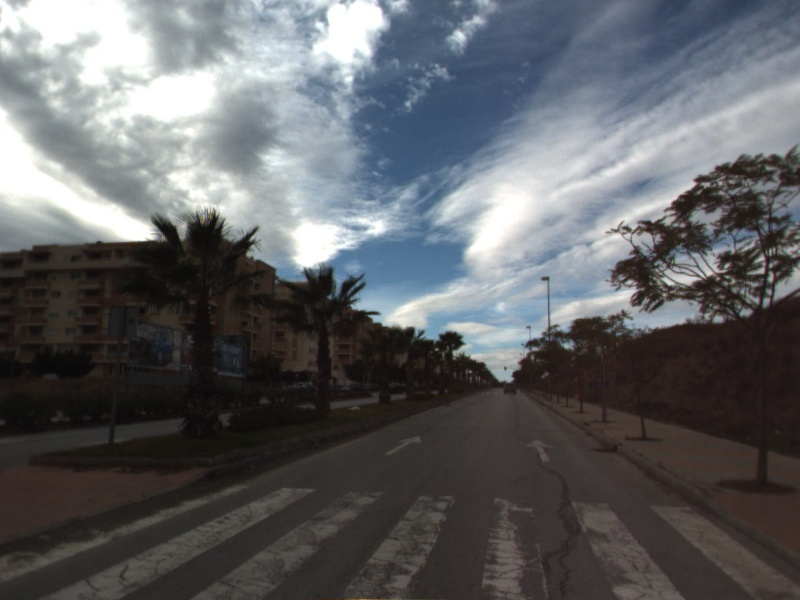STRAIGHT: (382, 433, 424, 457), (524, 437, 556, 464)
